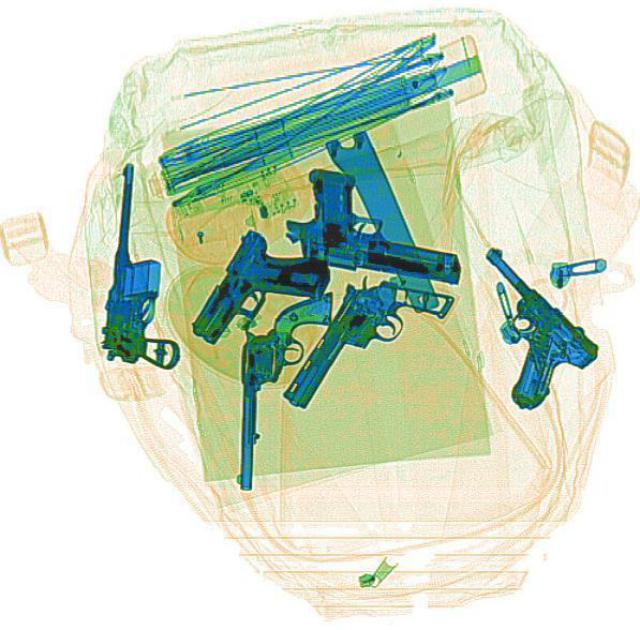Gun: (273, 250, 455, 440), (417, 239, 606, 413), (181, 221, 339, 373), (276, 163, 469, 281), (235, 285, 331, 491), (96, 161, 192, 365)
